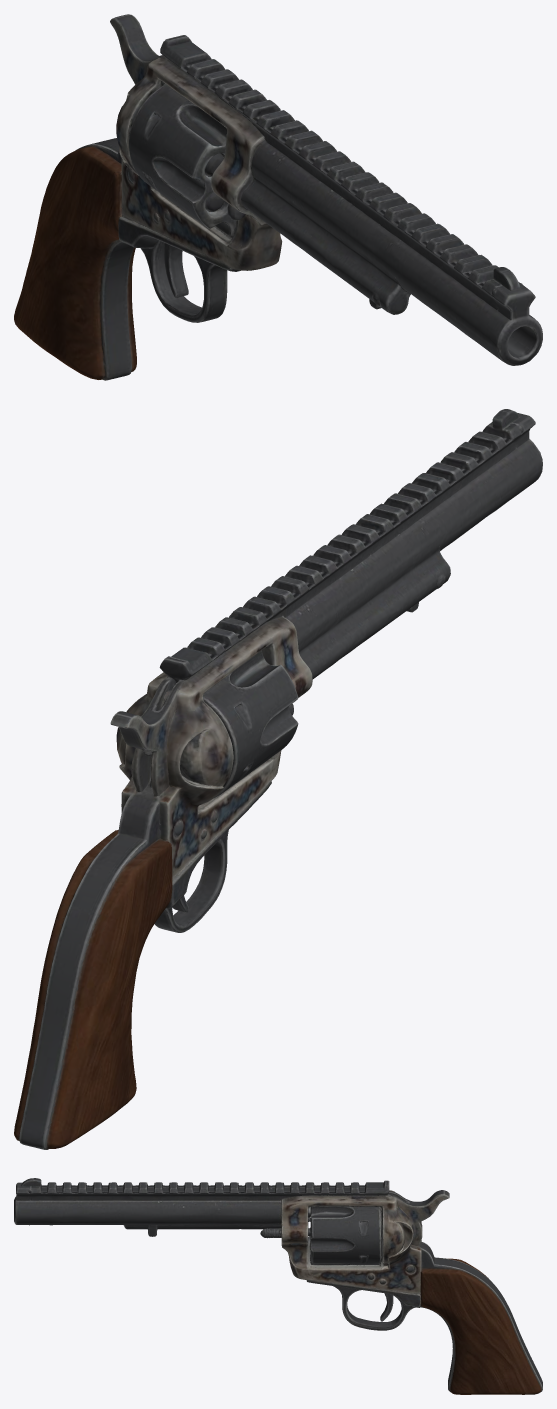
The model's file is western_revolver.medium.glb.
3 views of the same model, one above another, from view 1: azimuth 30°, elevation 25°; view 2: azimuth 150°, elevation 25°; view 3: azimuth 270°, elevation 25° (orthographic). The views are drawn at different scales.
Visible parts, largest first — view 1: model; view 2: model; view 3: model.
Boxes of the visible parts, x1,y1,x2,y2 form: model: [14, 14, 542, 380]; model: [14, 409, 542, 1149]; model: [14, 1178, 542, 1394].
Bounding box in the file's own units: 0.0435 × 0.1503 × 0.3401.
Materials: 1 (1 with a texture image).
